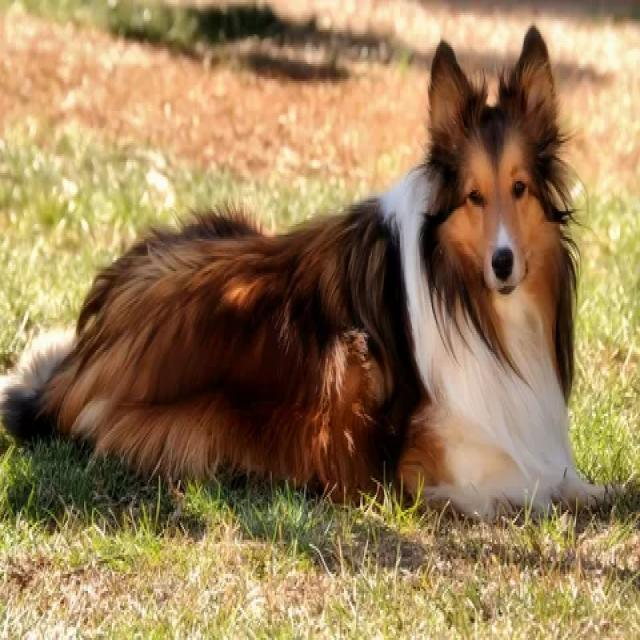Dog: (65, 34, 578, 493)
